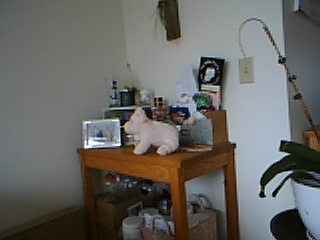piggy: (123, 106, 183, 156)
